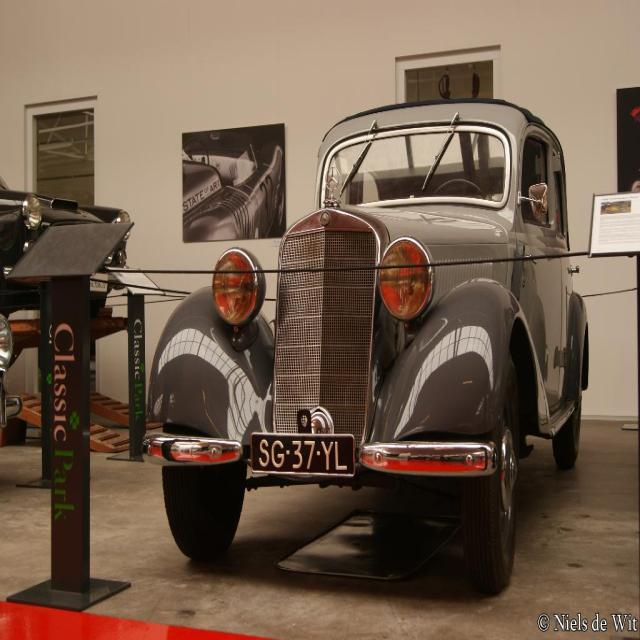car: (140, 95, 588, 596)
